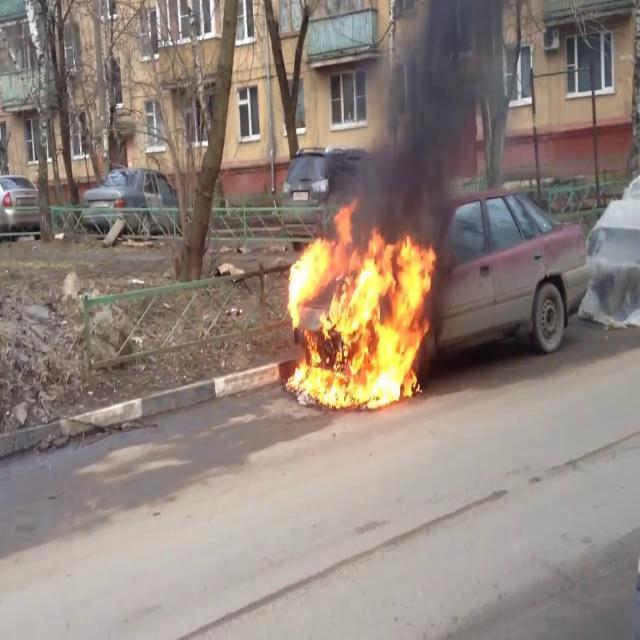Fire: (278, 204, 440, 414)
Smoke: (350, 1, 512, 230)
